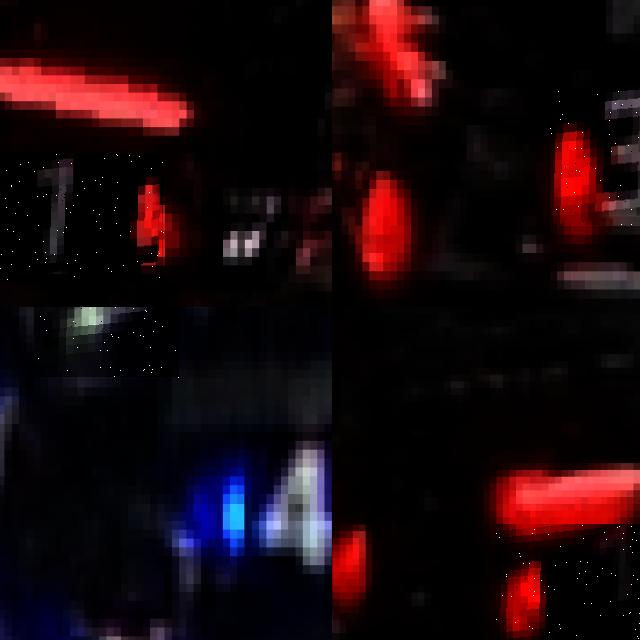B4: (200, 414, 332, 592), (33, 307, 179, 378)
R1: (0, 153, 164, 282), (496, 524, 640, 640)
R3: (550, 88, 640, 225)
